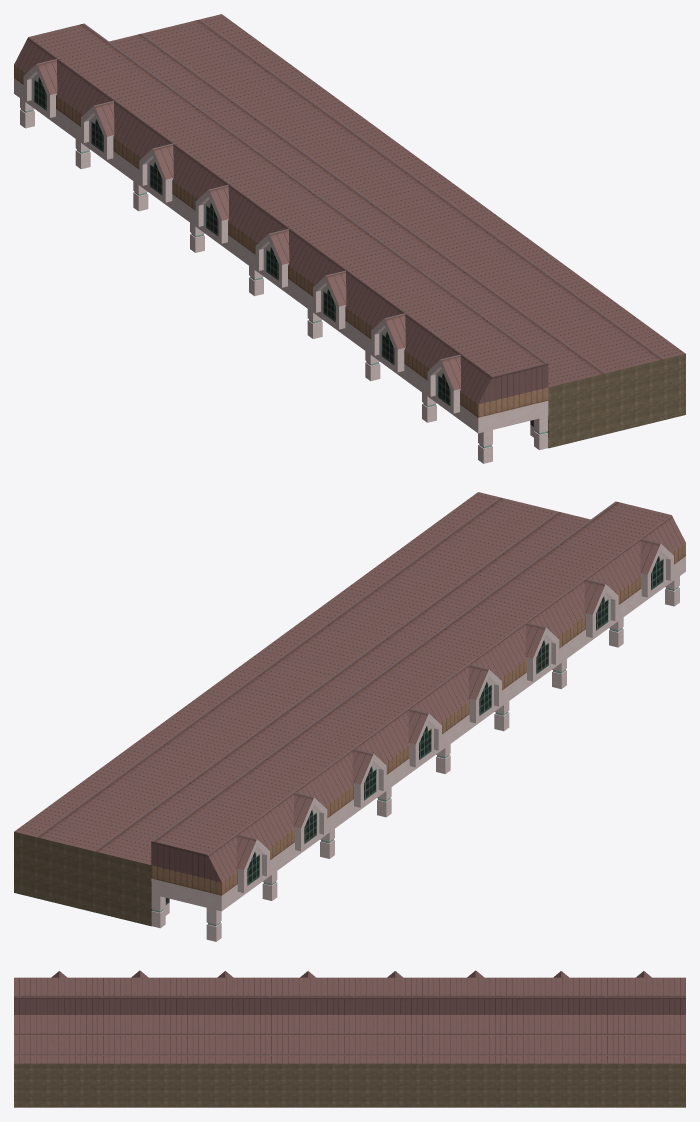
File: shop16_lvs.obj
3 views of the same model, one above another, from view 1: azimuth 30°, elevation 25°; view 2: azimuth 150°, elevation 25°; view 3: azimuth 270°, elevation 25° (orthographic). The views are drawn at different scales.
Visible parts, largest first — view 1: shop16_lvs; view 2: shop16_lvs; view 3: shop16_lvs.
Boxes of the visible parts, left/top/right/bottom form: shop16_lvs: left=14, top=14, right=685, bottom=463; shop16_lvs: left=14, top=492, right=685, bottom=941; shop16_lvs: left=14, top=970, right=685, bottom=1107.
Bounding box in the file's own units: 21.35 × 8.11 × 80.03.
8 materials, 8 textured.
